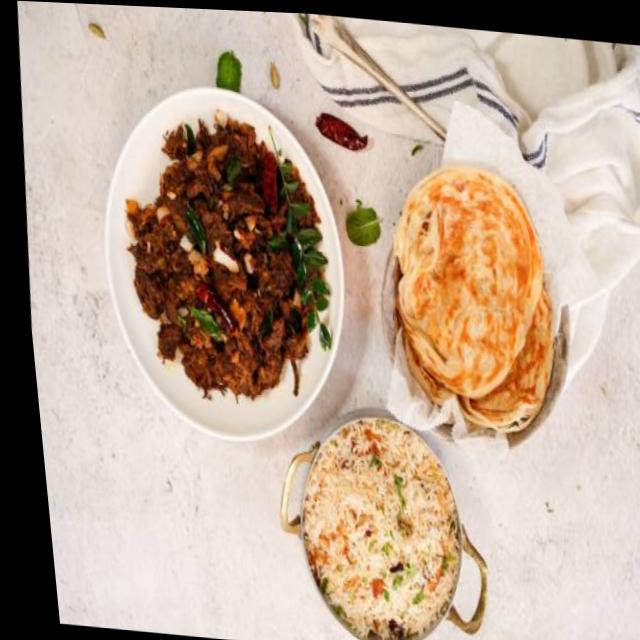PAROTTA: (396, 165, 550, 425)
VEGGIES: (307, 426, 453, 636)
